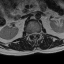CCS_normal: (33, 30, 35, 38)
LFS_normal: (36, 30, 39, 36)
LLS_normal: (35, 30, 36, 37)
RFS_normal: (29, 31, 31, 37)
RLS_normal: (31, 30, 33, 36)
